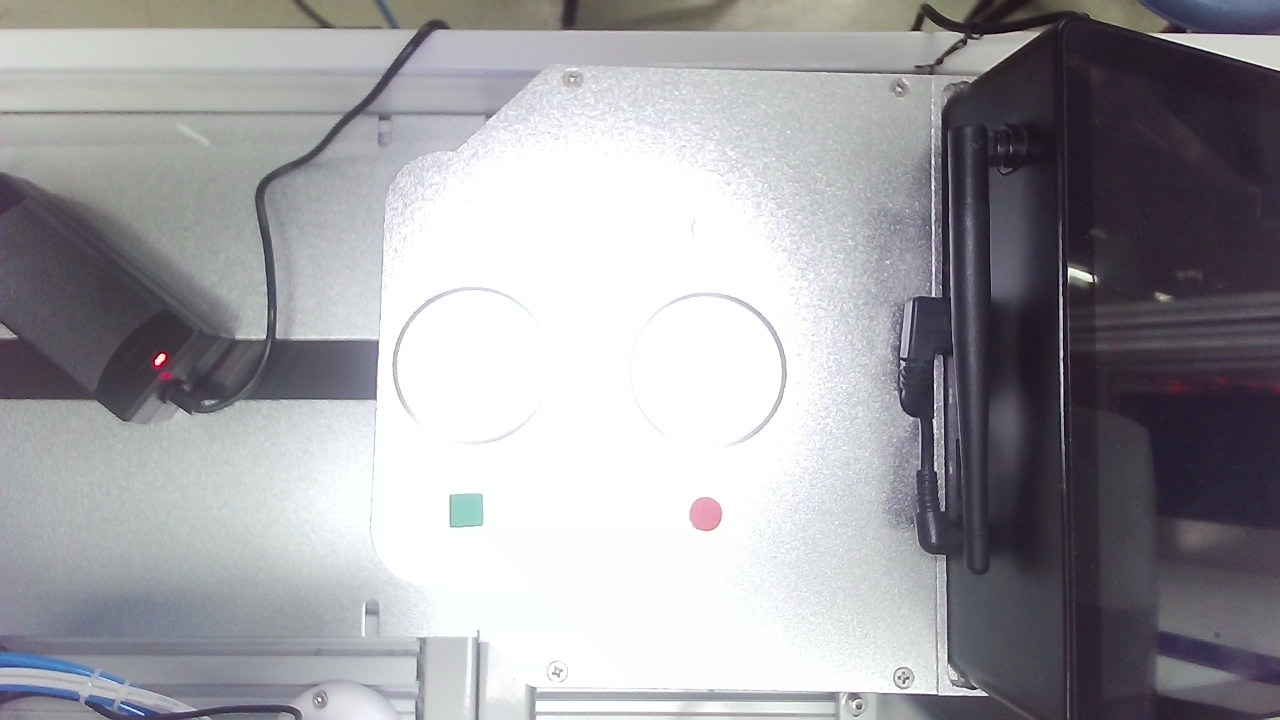bad: (722, 419, 777, 460), (506, 476, 552, 521), (635, 275, 679, 320), (826, 68, 869, 113), (258, 173, 305, 213), (453, 37, 494, 81), (306, 133, 352, 172), (276, 233, 319, 273), (695, 579, 733, 621), (528, 245, 567, 285), (262, 311, 301, 350), (809, 29, 846, 69), (348, 86, 384, 123), (819, 578, 860, 610), (724, 274, 760, 310), (726, 307, 763, 342), (363, 7, 399, 42), (818, 157, 858, 188), (690, 210, 725, 244), (642, 363, 675, 399), (801, 214, 838, 246), (261, 375, 296, 408), (365, 269, 397, 302)
defact: (595, 234, 631, 271)
pass: (562, 214, 600, 263), (263, 408, 306, 449), (287, 568, 330, 609), (270, 604, 311, 646), (433, 328, 475, 368), (661, 526, 700, 565), (560, 602, 598, 642), (626, 210, 664, 249), (669, 223, 702, 267), (709, 541, 745, 579), (643, 30, 676, 70), (848, 597, 879, 637)
toolong: (594, 371, 654, 423), (335, 35, 373, 100), (714, 223, 771, 262)
unpass: (839, 396, 880, 440), (808, 539, 850, 580), (850, 536, 891, 578), (410, 382, 451, 423), (750, 283, 791, 324), (692, 251, 732, 291), (459, 198, 500, 237), (378, 298, 417, 339), (786, 344, 822, 386), (412, 46, 449, 86), (575, 299, 610, 341), (445, 225, 483, 263), (794, 181, 833, 218), (697, 44, 732, 85), (265, 211, 308, 244), (678, 1, 712, 42), (850, 479, 888, 515), (462, 275, 497, 314), (833, 186, 869, 223), (410, 268, 446, 303), (441, 171, 477, 205), (707, 178, 740, 215), (292, 382, 329, 413)
